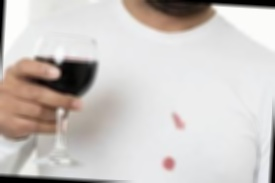wine: (170, 111, 188, 130), (159, 157, 178, 174)
